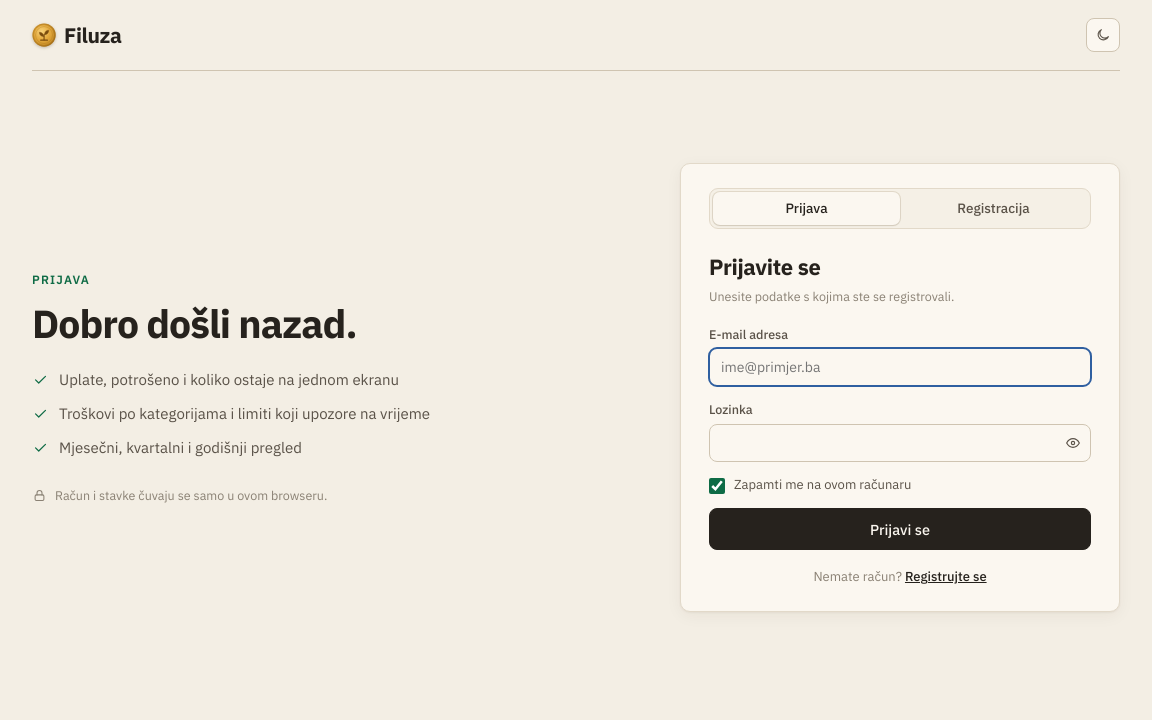
Test: prijava › pogrešna lozinka pokazuje grešku, ispravna otvara dashboard
Type "amila@primjer.ba" into the field labelled "E-mail adresa". click: [900, 367]
box: 709,348 -> 1091,386
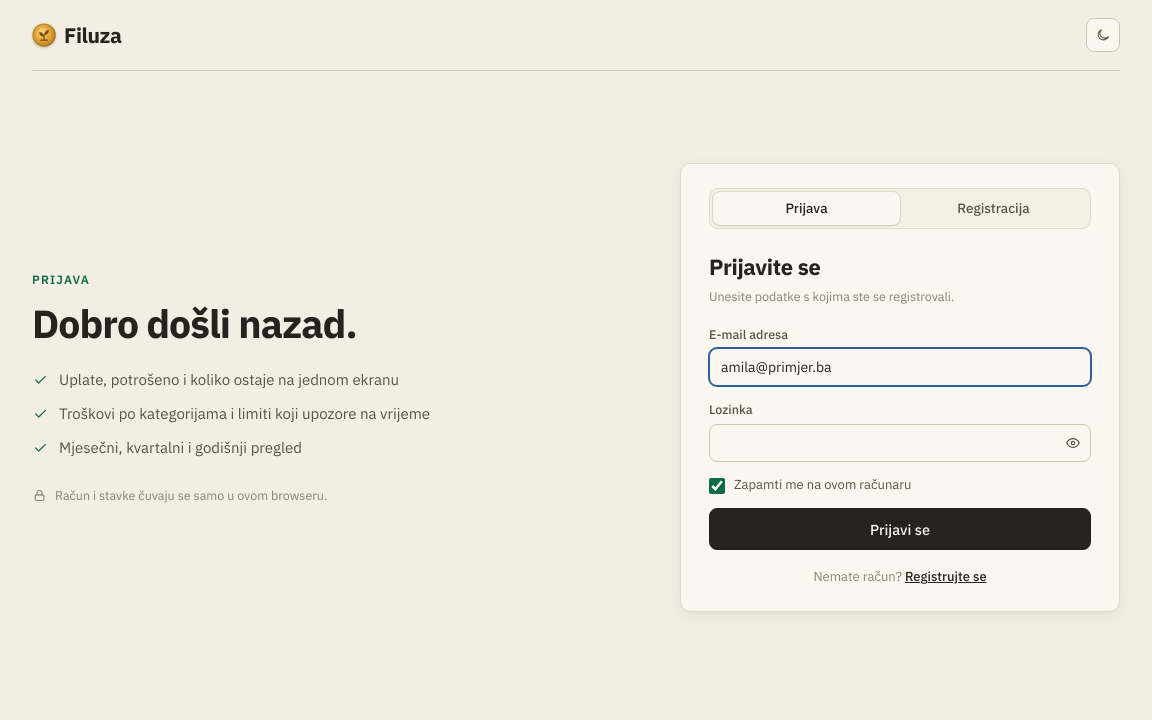
Type "pogresna99" into the password field labelled "Lozinka". click: [900, 443]
box: 709,424 -> 1091,462
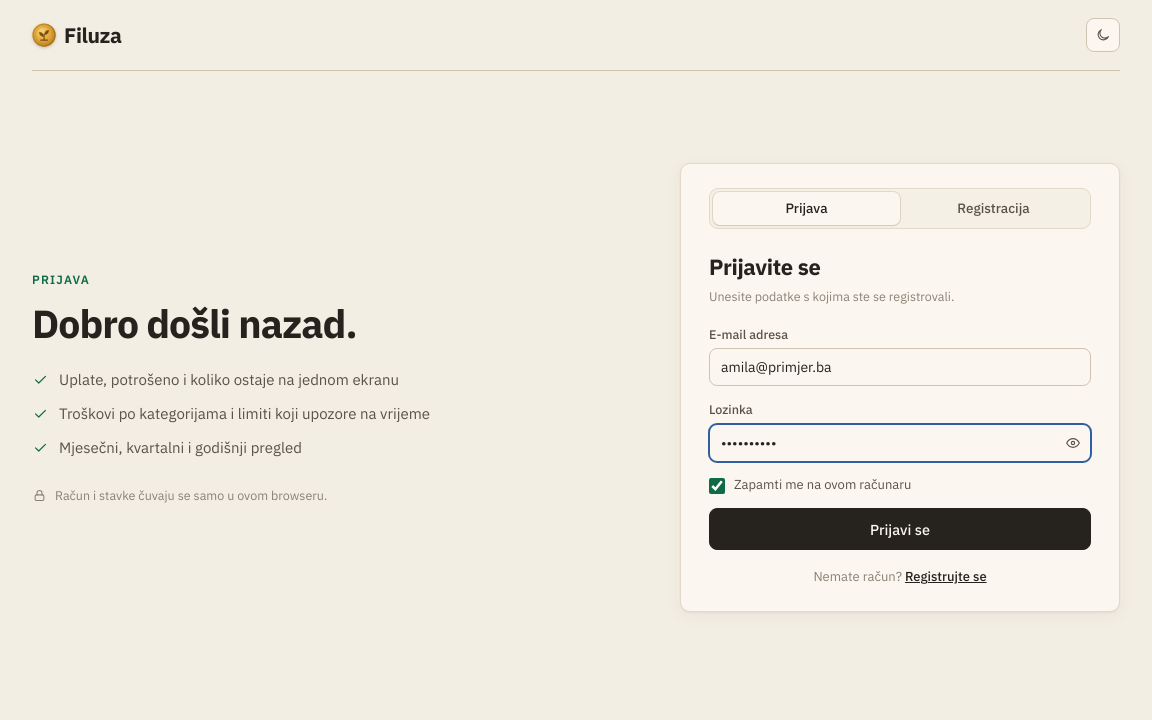
Click the button "Prijavi se". click: [900, 529]
box: 709,508 -> 1091,550
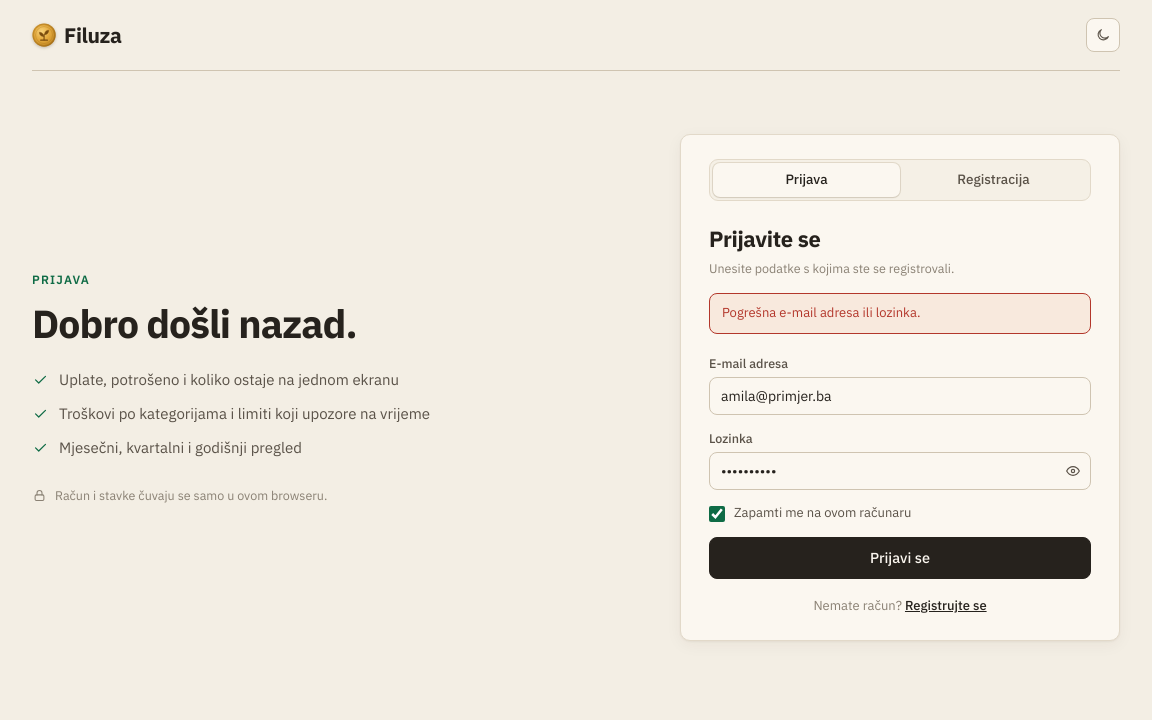
Expected: the message reads "Pogrešna e-mail adresa ili lozinka.", 722,304 -> 920,321
Type "tajna1234" into the password field labelled "Lozinka". click: [900, 471]
box: 709,452 -> 1091,490
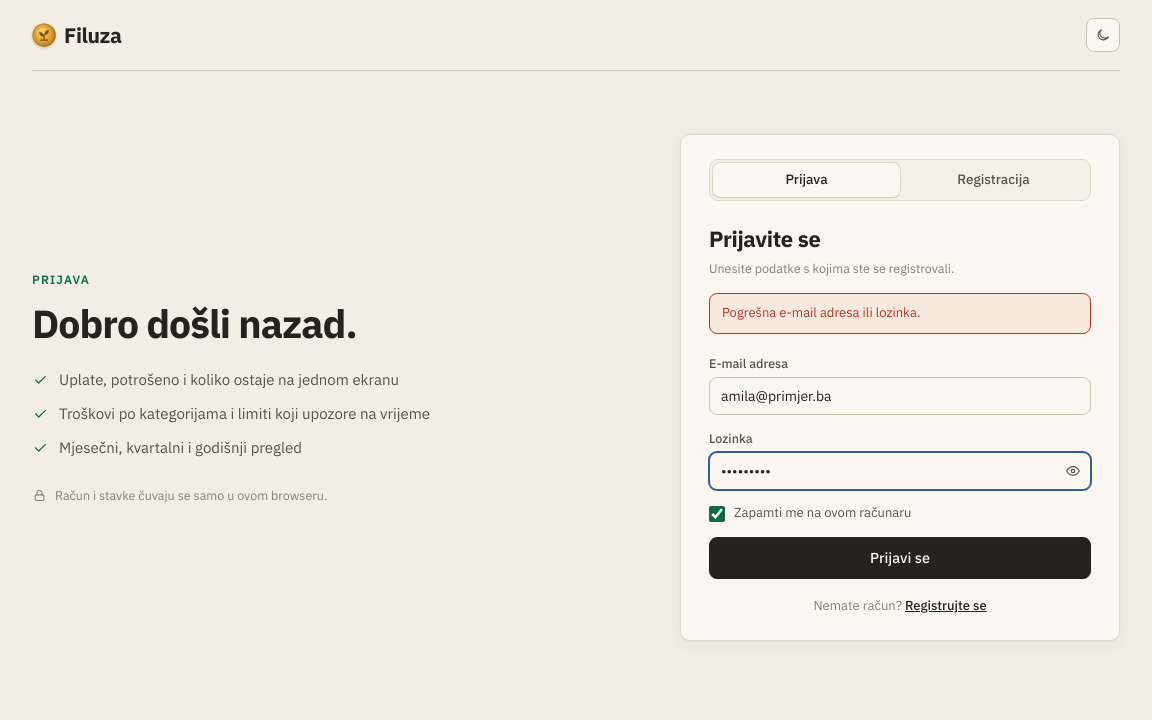
Click the button "Prijavi se". click: [900, 558]
box: 709,537 -> 1091,579
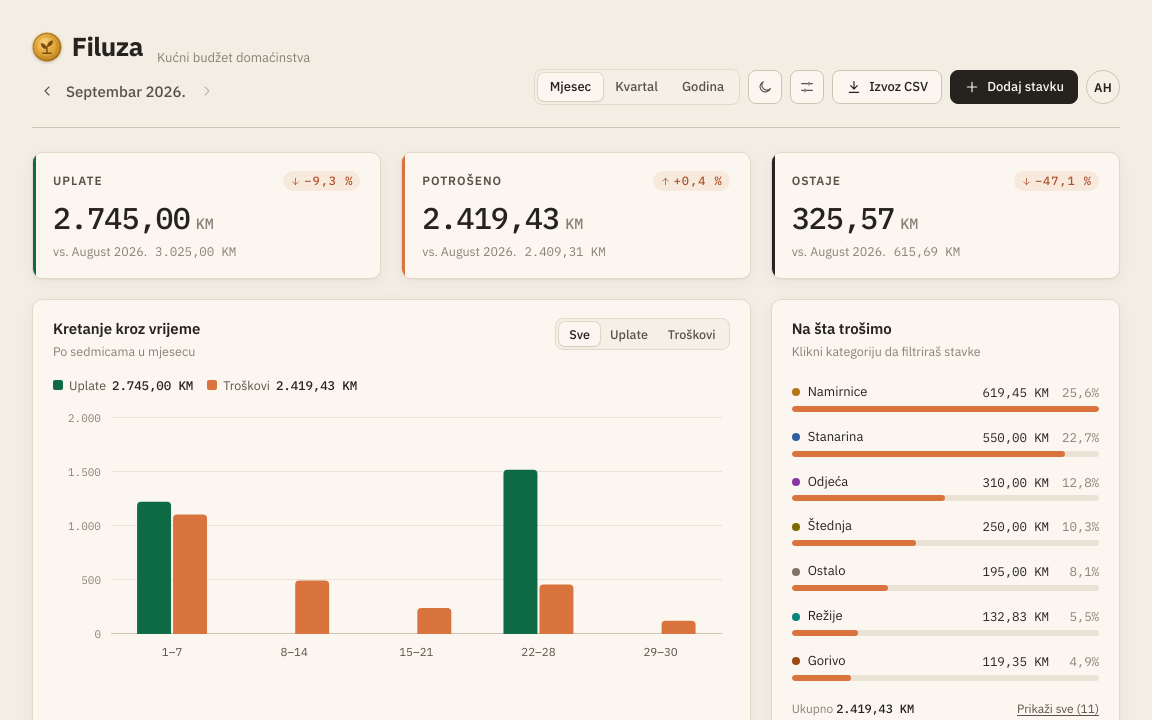
Expected: the button with aria-label "Korisnički meni: Amila Hodžić" is shown, 1086,70 -> 1120,104
Expected: the heading "Kretanje kroz vrijeme" is shown, 53,318 -> 200,340
